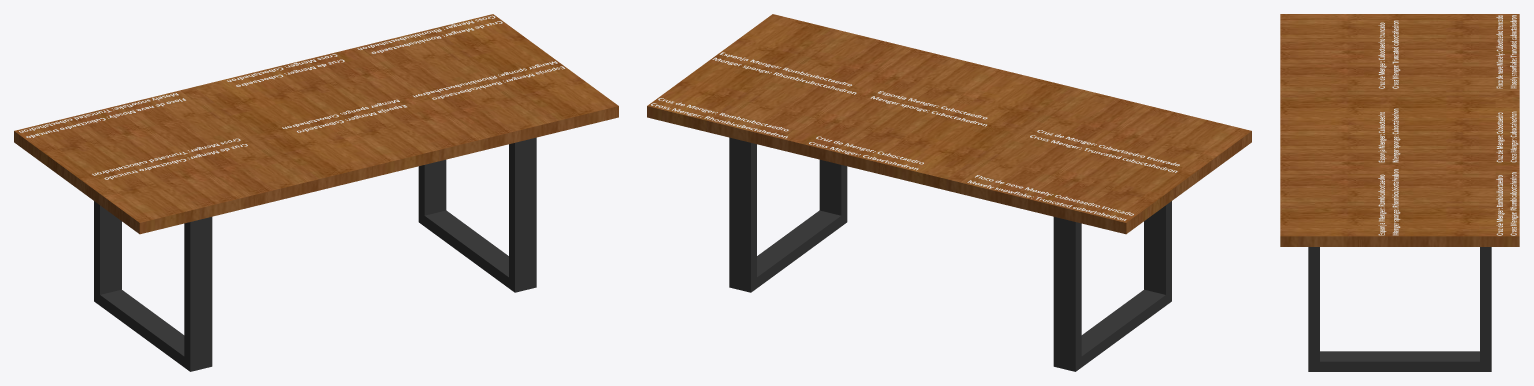
The model's file is fractal_arquim6.glb.
3 renders of one model, left to right at view 1: azimuth 30°, elevation 25°; view 2: azimuth 150°, elevation 25°; view 3: azimuth 270°, elevation 25°, orthographic. The views are drawn at different scales.
Visible parts, largest first — view 1: object 1, Composant#1 (×2), Floco de neve Mo#2, Cruz de Menger: #5, Esponja Menger: #1, Cruz de Menger: #3, Esponja Menger: #2, Cruz de Menger: #4; view 2: object 1, Composant#1 (×2), Floco de neve Mo#2, Cruz de Menger: #5, Esponja Menger: #1, Cruz de Menger: #3, Esponja Menger: #2, Cruz de Menger: #4; view 3: object 1, Composant#1, Floco de neve Mo#2, Esponja Menger: #1, Cruz de Menger: #5, Cruz de Menger: #3, Esponja Menger: #2, Cruz de Menger: #4.
Part boxes in pixels (x1,y1,x2,y2): object 1: [14, 14, 618, 234]; Composant#1 (×2): [94, 137, 536, 371]; Floco de neve Mo#2: [19, 93, 185, 137]; Cruz de Menger: #5: [92, 138, 247, 179]; Esponja Menger: #1: [413, 61, 564, 99]; Cruz de Menger: #3: [357, 15, 502, 53]; Esponja Menger: #2: [282, 99, 406, 132]; Cruz de Menger: #4: [227, 54, 344, 86]; object 1: [647, 14, 1251, 234]; Composant#1 (×2): [729, 137, 1171, 371]; Floco de neve Mo#2: [967, 175, 1133, 220]; Cruz de Menger: #5: [1030, 130, 1179, 172]; Esponja Menger: #1: [712, 52, 856, 94]; Cruz de Menger: #3: [651, 98, 788, 138]; Esponja Menger: #2: [870, 91, 987, 126]; Cruz de Menger: #4: [809, 136, 923, 170]; object 1: [1280, 14, 1519, 246]; Composant#1: [1308, 247, 1491, 371]; Floco de neve Mo#2: [1496, 15, 1517, 88]; Esponja Menger: #1: [1378, 169, 1400, 235]; Cruz de Menger: #5: [1378, 20, 1400, 88]; Cruz de Menger: #3: [1496, 172, 1518, 235]; Esponja Menger: #2: [1378, 108, 1400, 162]; Cruz de Menger: #4: [1496, 111, 1518, 162].
Bounding box in the file's own units: 2.2 × 0.771 × 1.
3 materials, 1 textured.
